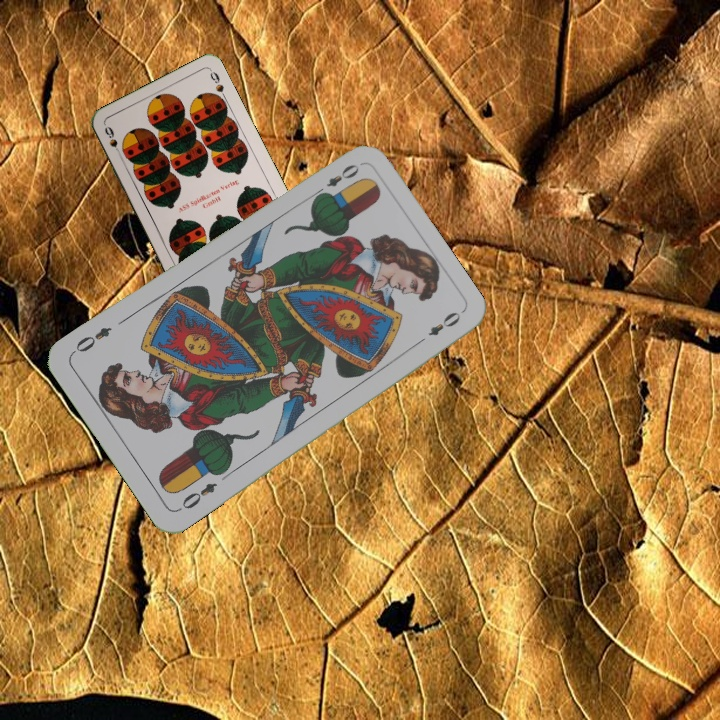EO: (310, 159, 362, 200), (174, 478, 220, 514)
S9: (100, 122, 125, 160)
